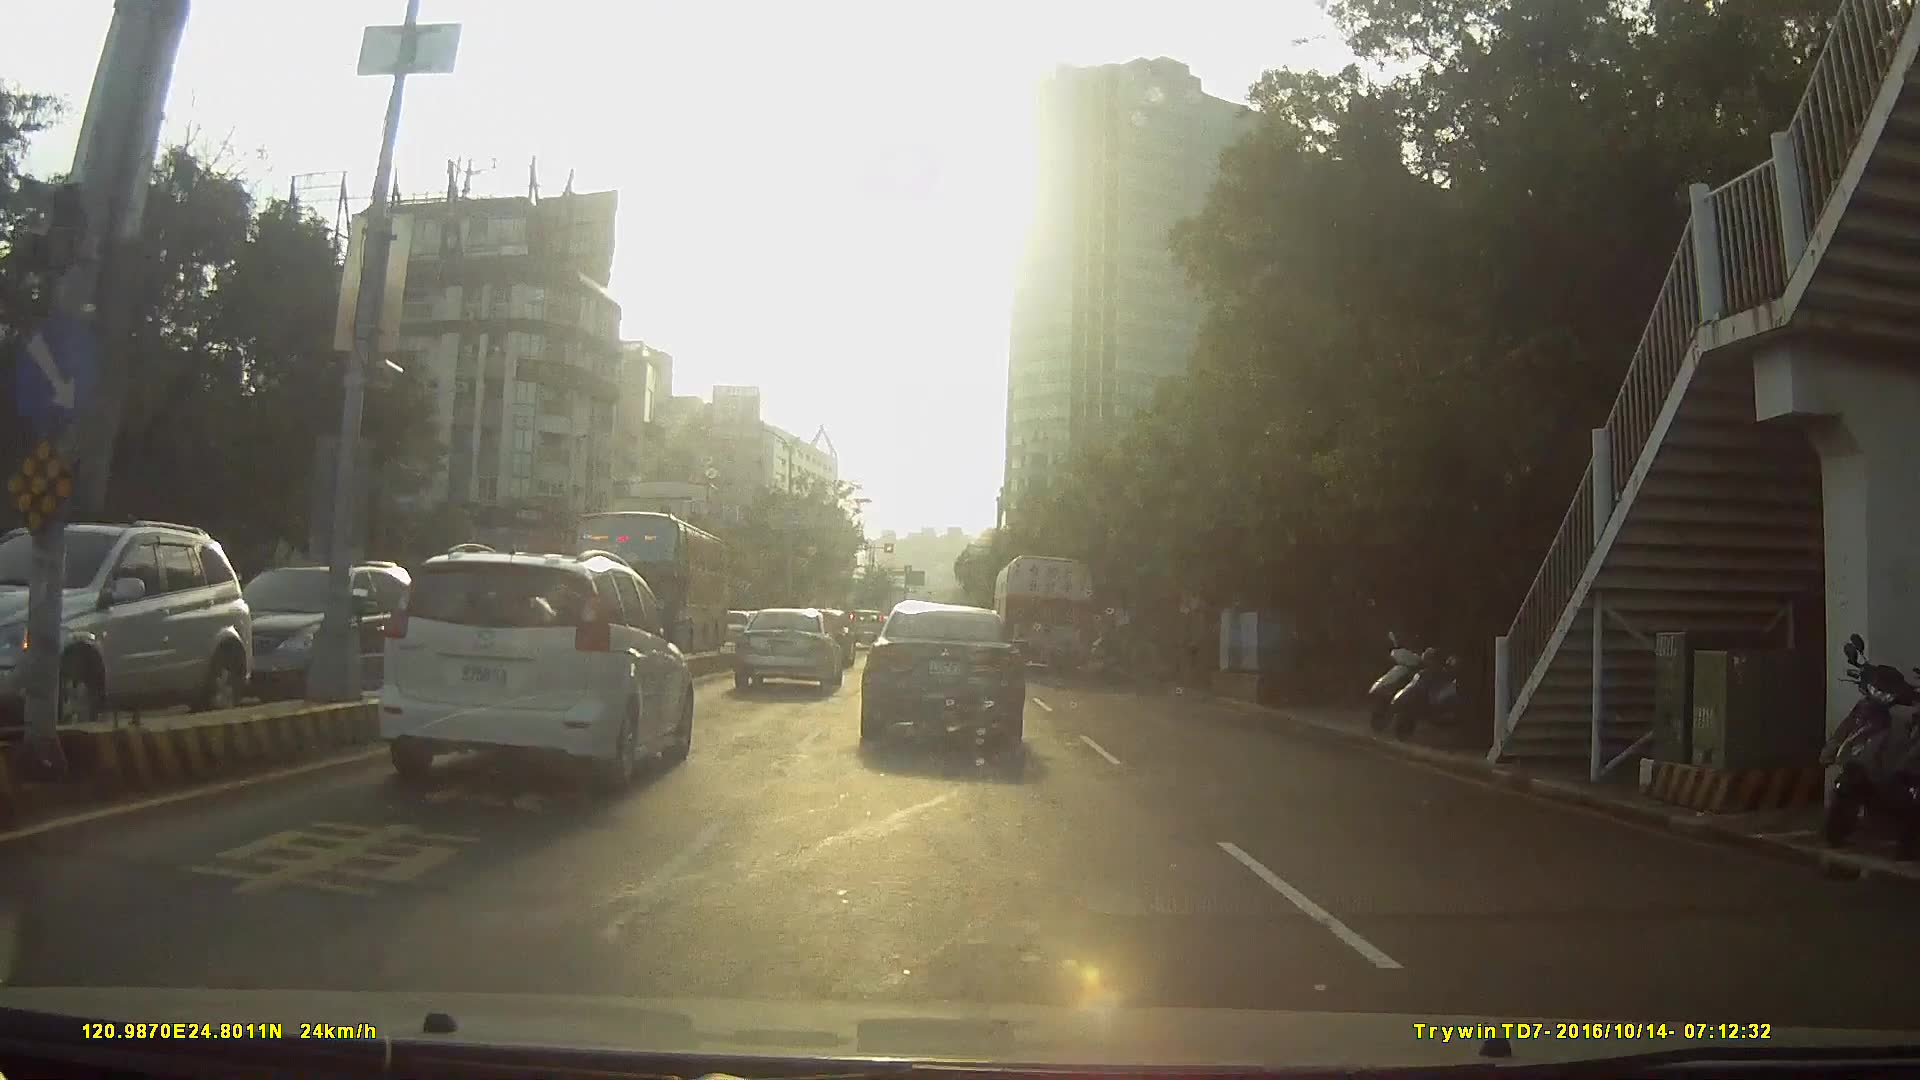vehicle: (251, 556, 684, 868), (378, 543, 694, 796), (1, 517, 284, 742), (189, 560, 429, 711), (858, 596, 1026, 764), (562, 509, 723, 655), (993, 554, 1098, 680), (731, 608, 841, 696), (843, 607, 890, 651)
